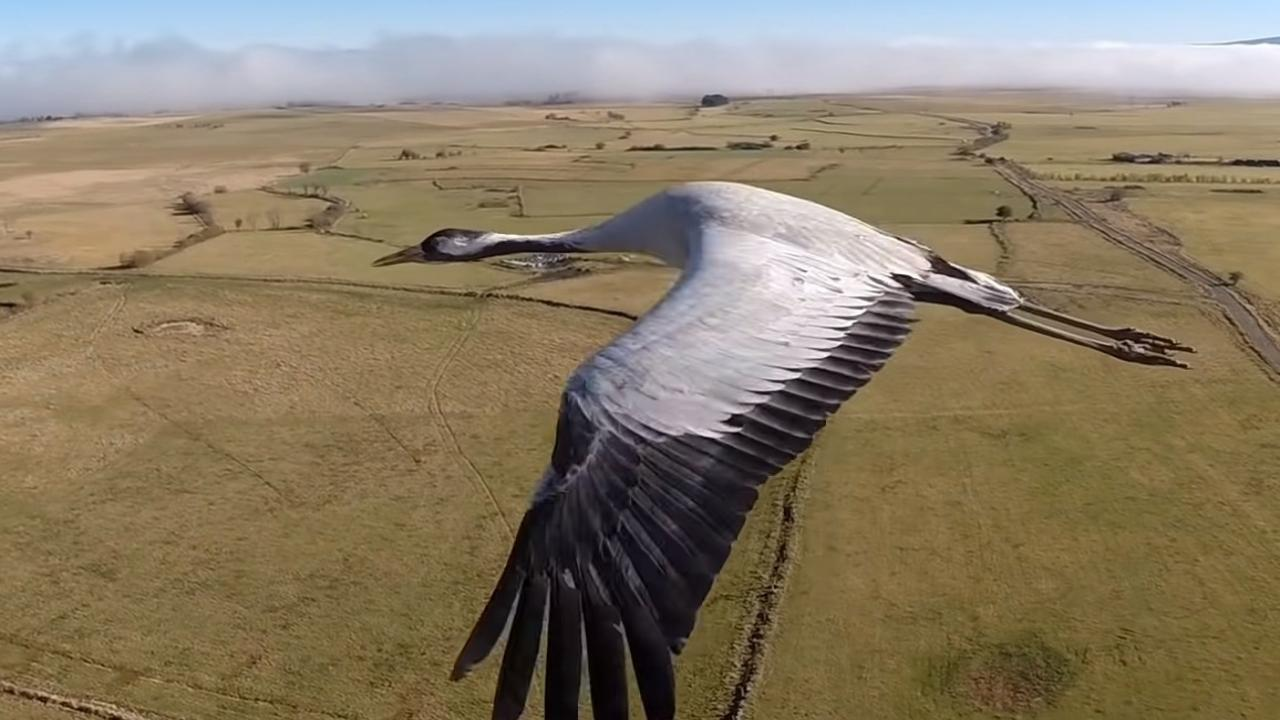Bird: (364, 170, 1204, 720)
